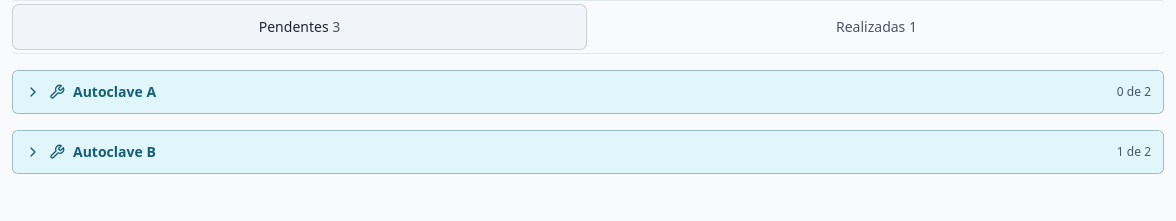
Test: ColetaList › equipamento sem item no segmento ativo não aparece
Expected: the button "Autoclave B 1 de 2" is shown, x1=12 y1=130 x2=1164 y2=174
Click the button "Realizadas 1" at x=876, y=27, box x1=590 y1=5 x2=1163 y2=49
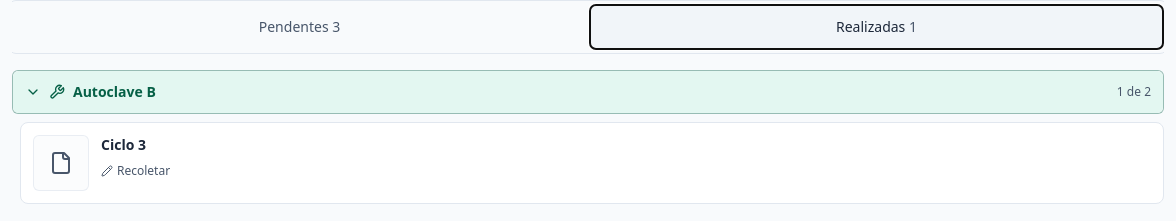
Expected: the button "Autoclave B 1 de 2" is shown, x1=12 y1=70 x2=1164 y2=114
Now the button "Autoclave A" is gone
